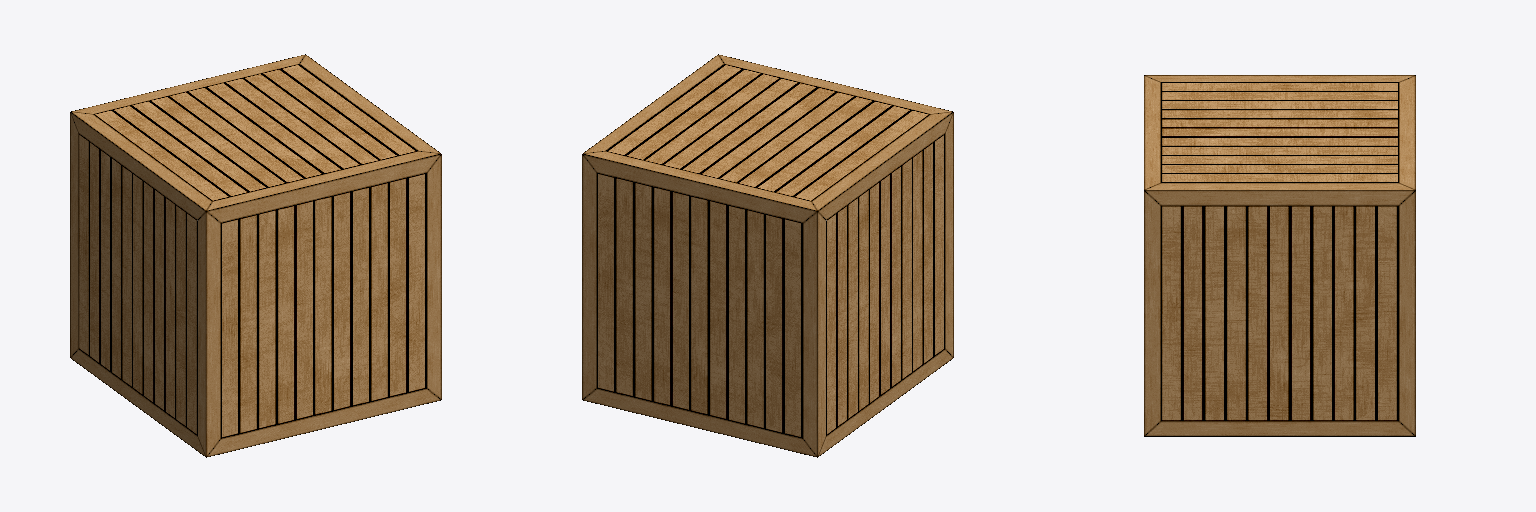
3 views of the same model, side by side, from view 1: azimuth 30°, elevation 25°; view 2: azimuth 150°, elevation 25°; view 3: azimuth 270°, elevation 25° (orthographic).
Visible parts, largest first — view 1: wood-box; view 2: wood-box; view 3: wood-box.
Part boxes in pixels (x1,y1,x2,y2): wood-box: (70, 54, 441, 457); wood-box: (582, 54, 953, 457); wood-box: (1144, 75, 1415, 436).
Bounding box in the file's own units: 2 × 2 × 2.
Materials: 1 (1 with a texture image).